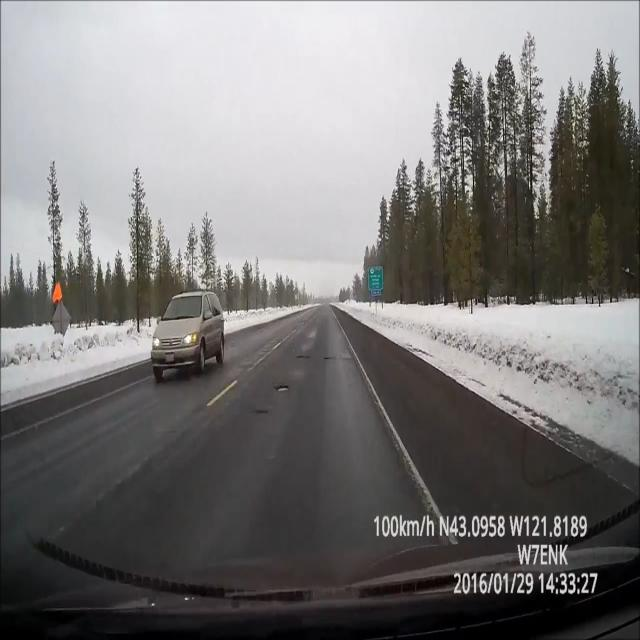Pothole: (274, 375, 292, 401)
